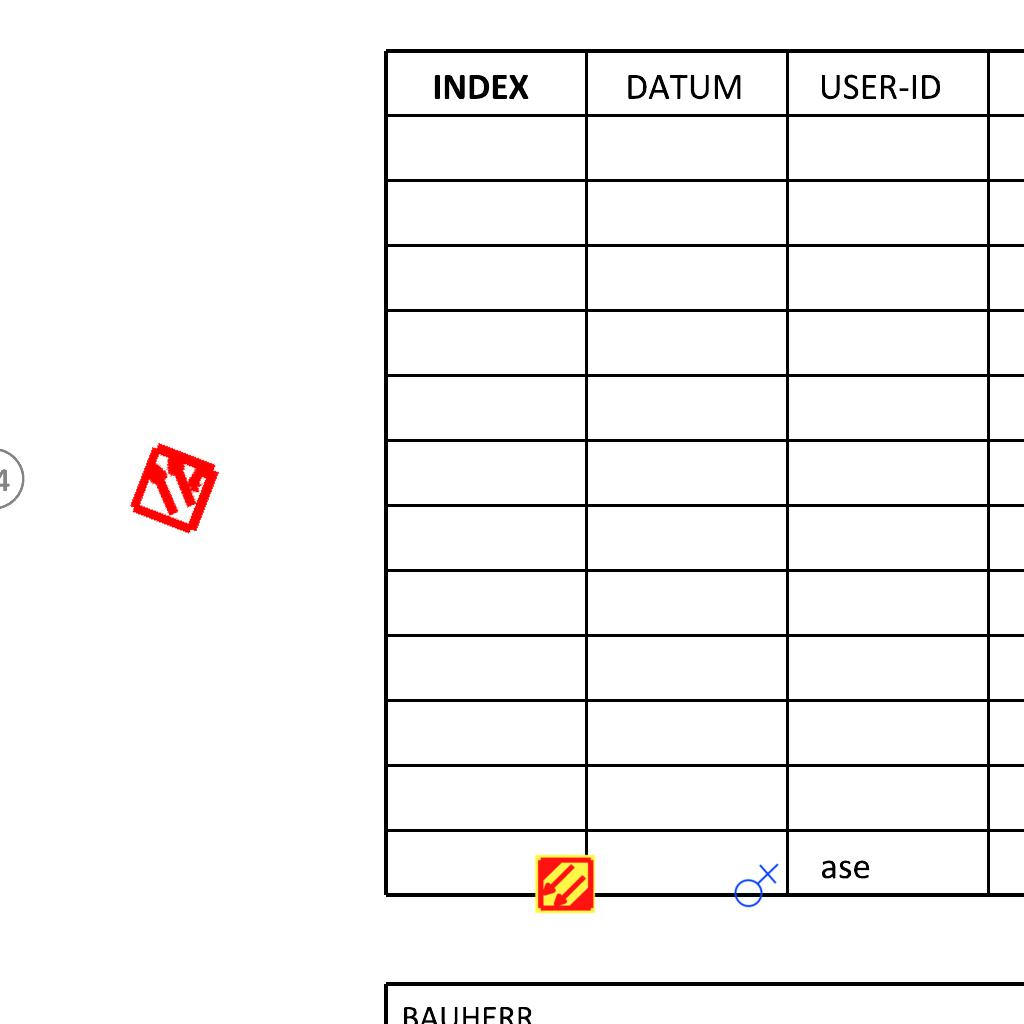ASR_Ansaugrauchmelder: (534, 853, 596, 915)
Elektroanschluss_allgemein_230V_Geraeteanschlussdose_230V: (730, 861, 779, 908)
OT_Multisensormelder_(Kombination_RMO_WMD): (102, 413, 249, 560)
